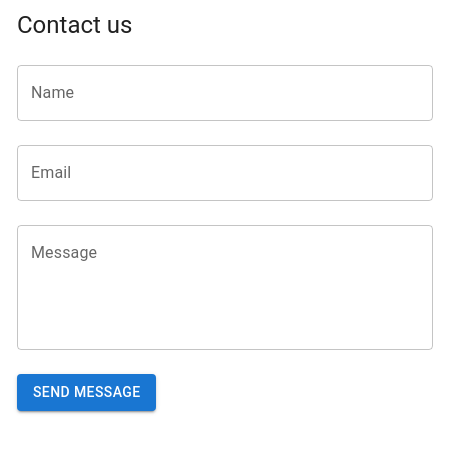
Scenario: ContactForm › shows inline field errors and keeps form active after a 422 response
Type "Alice" into the field labelled "Name" at [225, 93], box x1=17 y1=65 x2=433 y2=121
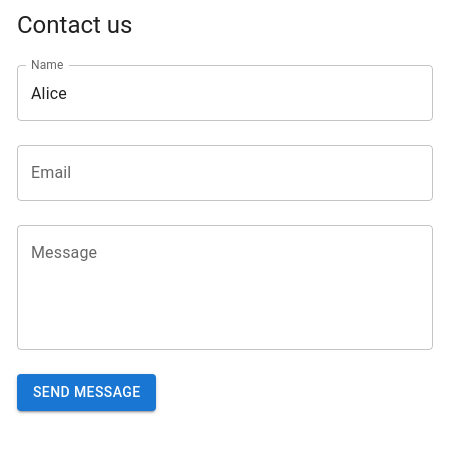
Type "bad-email" into the field labelled "Email" at [225, 173], box x1=17 y1=145 x2=433 y2=201
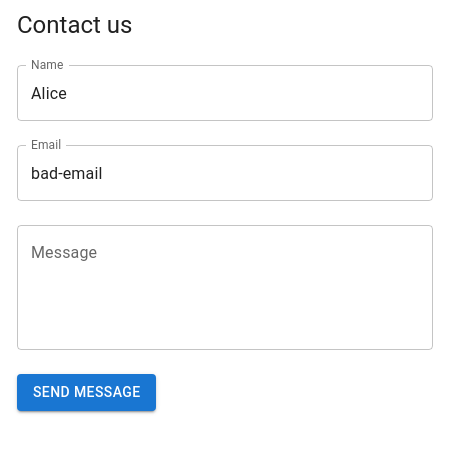
Type "Hello there" into the text box labelled "Message" at [225, 288], box x1=31 y1=242 x2=419 y2=334
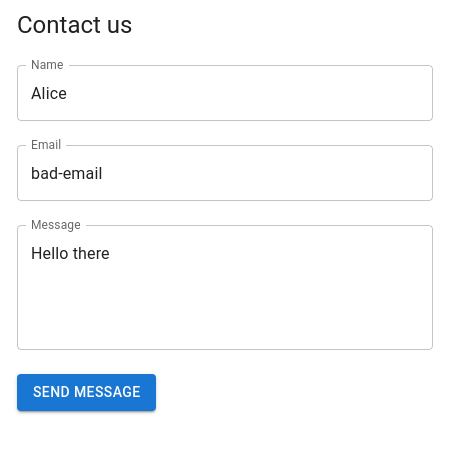
Click the button "Send message" at [87, 393], box x1=17 y1=374 x2=156 y2=411
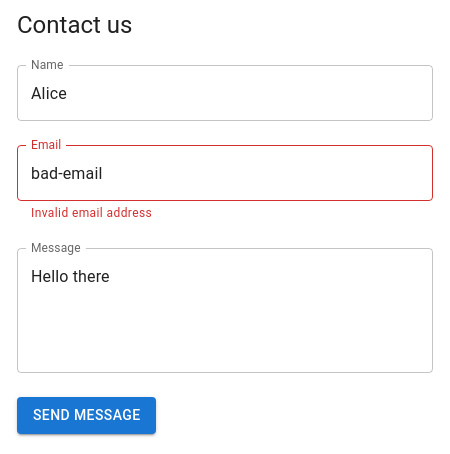
expect the text "Invalid email address" is shown: met, box x1=31 y1=206 x2=152 y2=220
